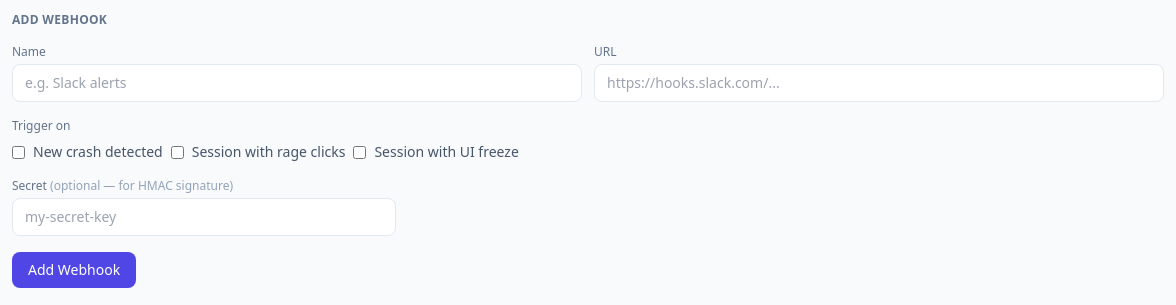
Test case: WebhookForm › disables save button while loading
Step 1. Type "Slack" into the field with test id "webhook-name-input" → (297, 83), box [12,64,582,102]
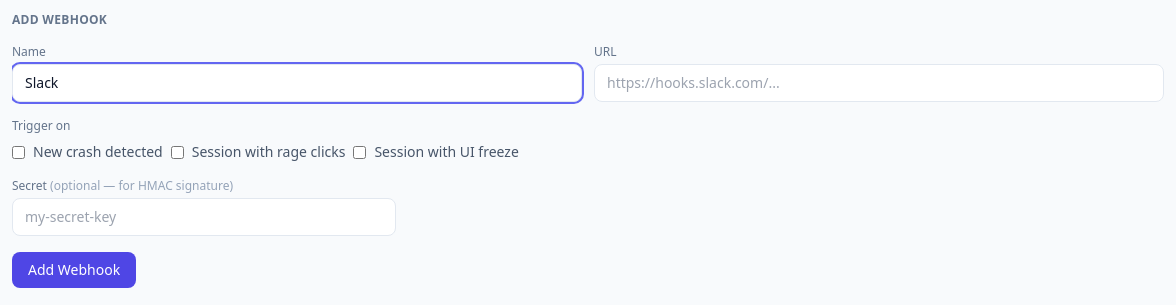
Step 2. Type "https://example.com" into the field with test id "webhook-url-input" → (879, 83), box [594,64,1164,102]
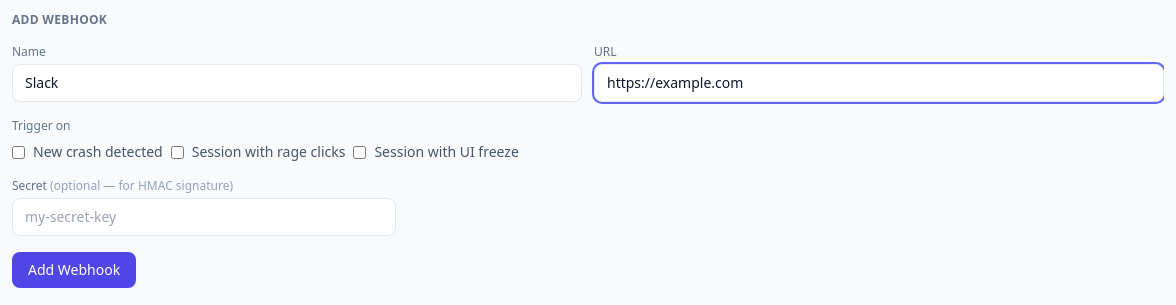
Step 3. Click the checkbox with test id "webhook-event-crash.new" → (18, 152), box [12,146,25,158]
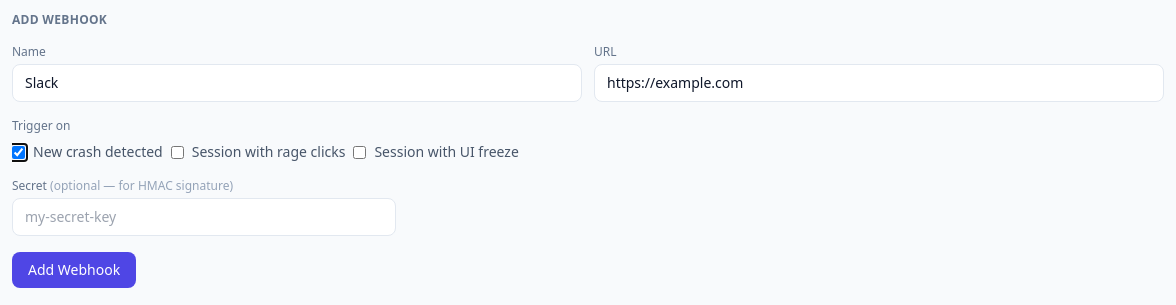
Step 4. Click the button with test id "webhook-save-button" → (74, 270), box [12,252,136,288]
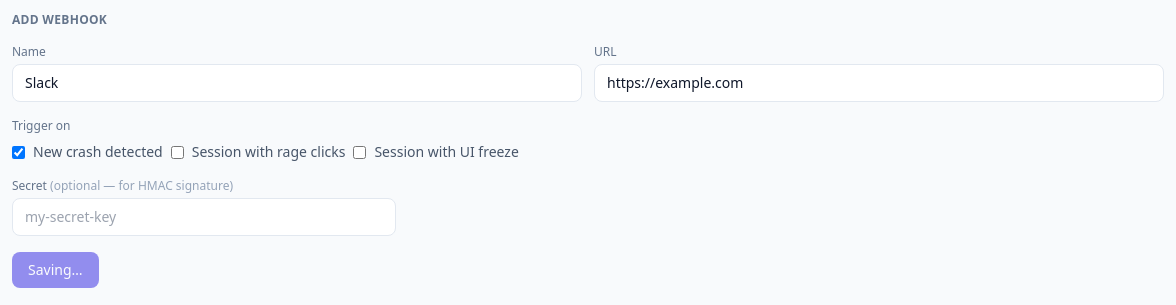
Expected: the button with test id "webhook-save-button" is disabled, [12,252,99,288]
